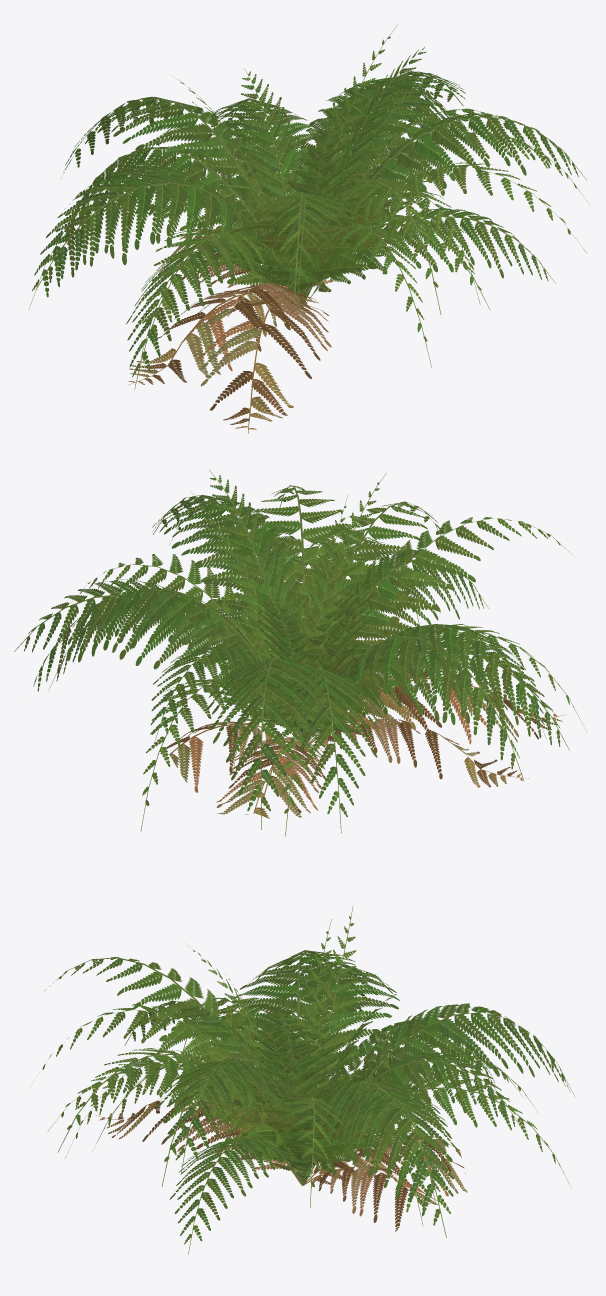
File: fern.glb
3 views of the same model, one above another, from view 1: azimuth 30°, elevation 25°; view 2: azimuth 150°, elevation 25°; view 3: azimuth 270°, elevation 25° (orthographic). The views are drawn at different scales.
Parts seen in each view (by area): view 1: fern_2, fern_3, fern_1; view 2: fern_2, fern_1, fern_3; view 3: fern_2, fern_3, fern_1.
Part boxes in pixels (left/top/right/bottom): fern_2: left=29, top=74, right=590, bottom=390; fern_3: left=36, top=24, right=586, bottom=433; fern_1: left=59, top=47, right=480, bottom=385; fern_2: left=33, top=473, right=574, bottom=817; fern_1: left=48, top=470, right=528, bottom=833; fern_3: left=14, top=485, right=586, bottom=836; fern_2: left=30, top=905, right=523, bottom=1237; fern_3: left=47, top=919, right=571, bottom=1254; fern_1: left=65, top=974, right=574, bottom=1231.
Size of the model in its own units: 0.9199 by 0.4436 by 0.96.
1 material, 1 textured.
